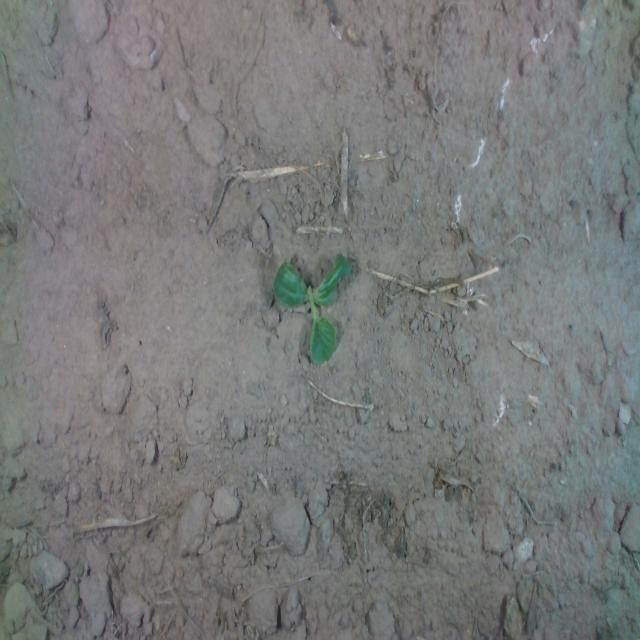crop: (272, 250, 352, 367)
